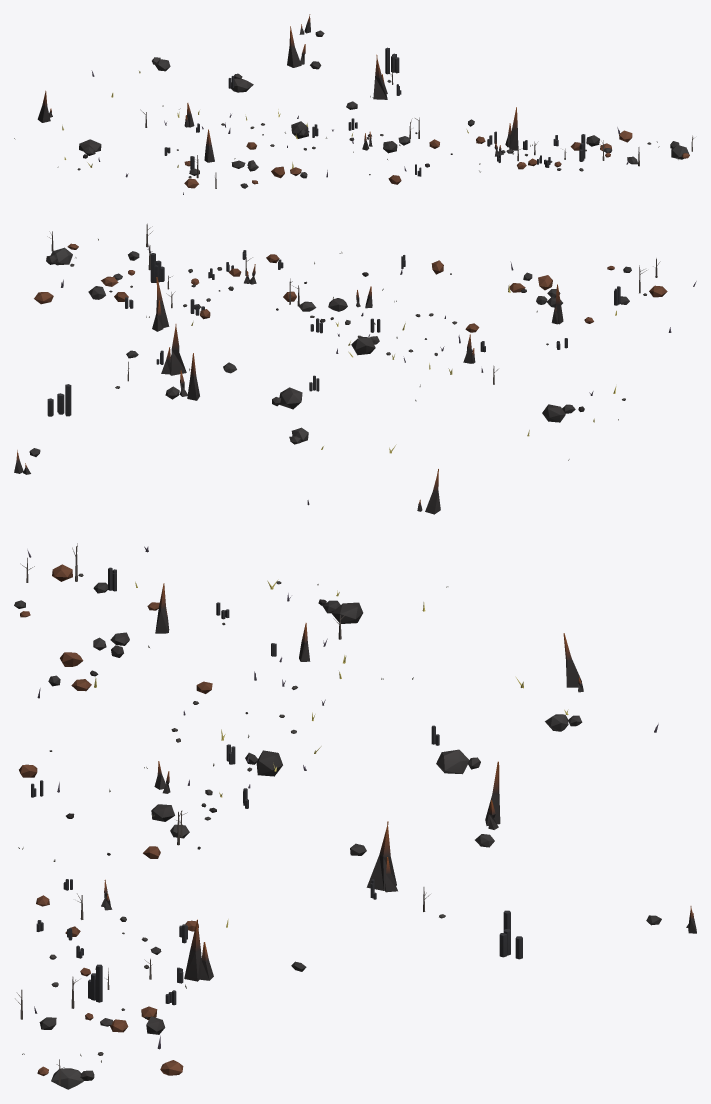
The model's file is ash_land_scatter_c18_27_lod1.glb.
3 renders of one model, top to bottom at view 1: azimuth 30°, elevation 25°; view 2: azimuth 150°, elevation 25°; view 3: azimuth 270°, elevation 25°, orthographic. The views are drawn at different scales.
Parts seen in each view (by area): view 1: ash_land_scatter_c18_27_lod1; view 2: ash_land_scatter_c18_27_lod1; view 3: ash_land_scatter_c18_27_lod1.
Part boxes in pixels (x1,y1,x2,y2): ash_land_scatter_c18_27_lod1: [14, 14, 693, 194]; ash_land_scatter_c18_27_lod1: [14, 223, 696, 514]; ash_land_scatter_c18_27_lod1: [14, 543, 696, 1089].
Size of the model in its own units: 221 by 45.67 by 153.
